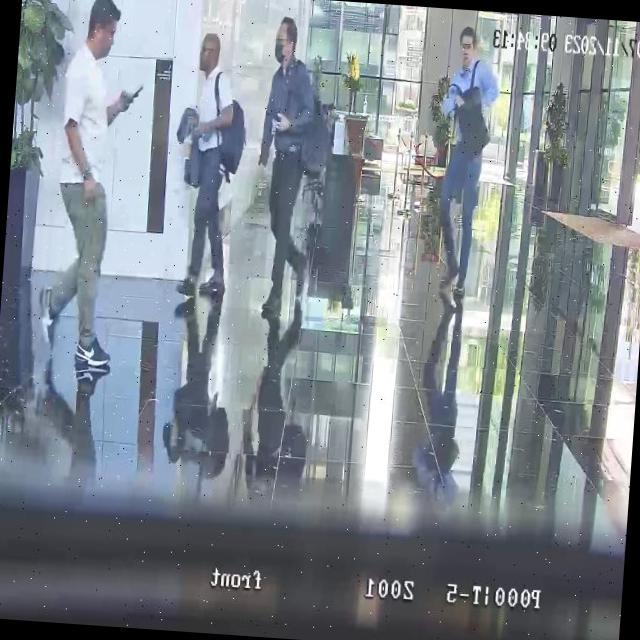person: (34, 0, 148, 388), (246, 14, 325, 318), (427, 23, 503, 308), (170, 29, 242, 300)
